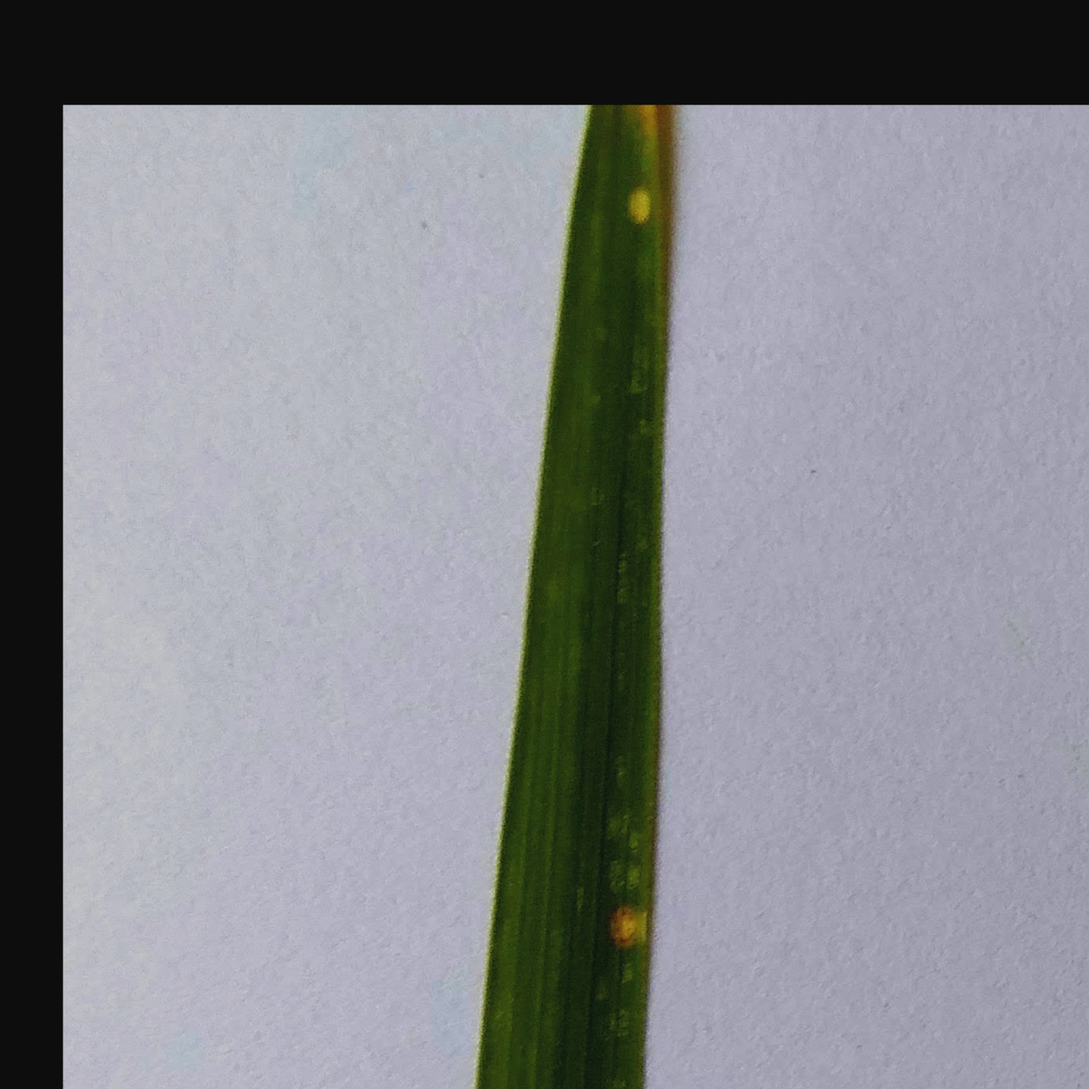Brown_Spot: (574, 873, 659, 957), (614, 174, 677, 237)
